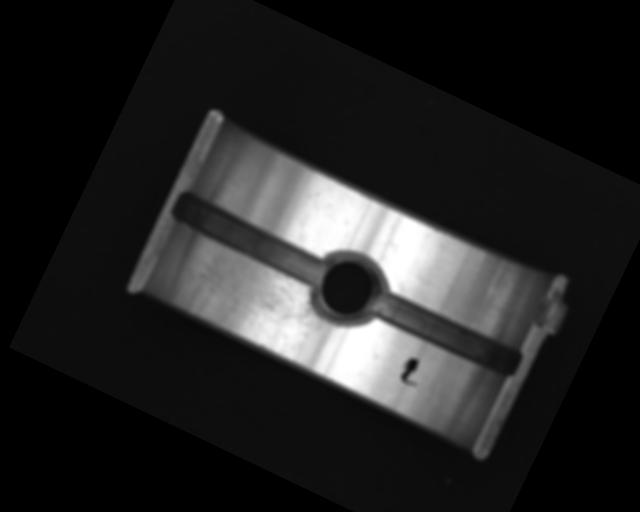blot: (395, 354, 426, 389)
gap: (167, 188, 330, 289), (369, 286, 524, 381)
hole: (301, 245, 394, 337)
nick: (479, 260, 508, 305)
scratch: (166, 233, 342, 369)
